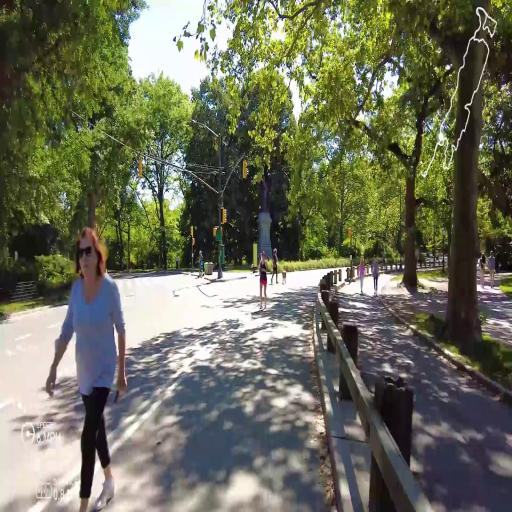Street_Light: (189, 109, 227, 278)
